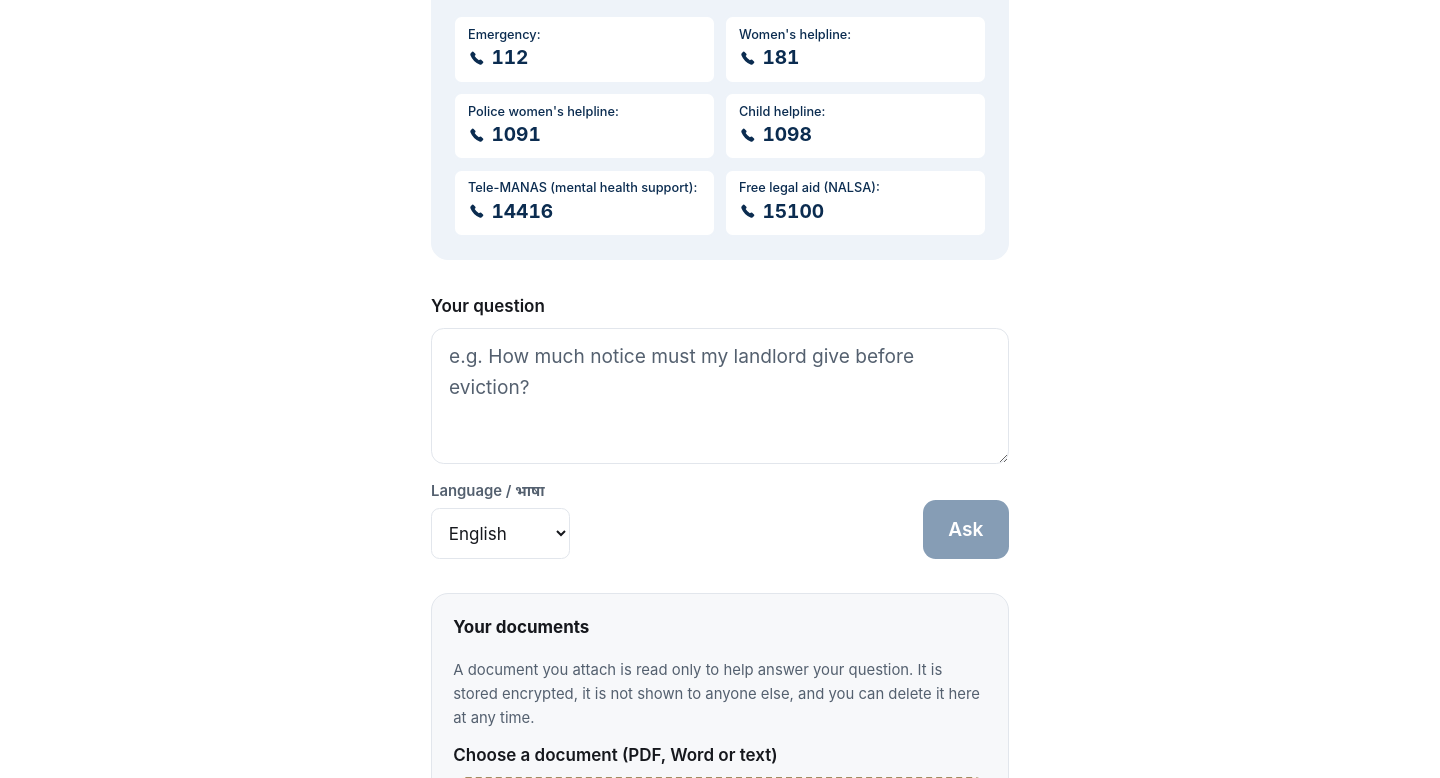
it: HomePage › welcomes a first-time visitor with example questions, and drops them once there is an answer
(page scrolled)
Type "q" into the text box labelled "Your question" at {"x": 720, "y": 396}, box [431,328,1009,464]
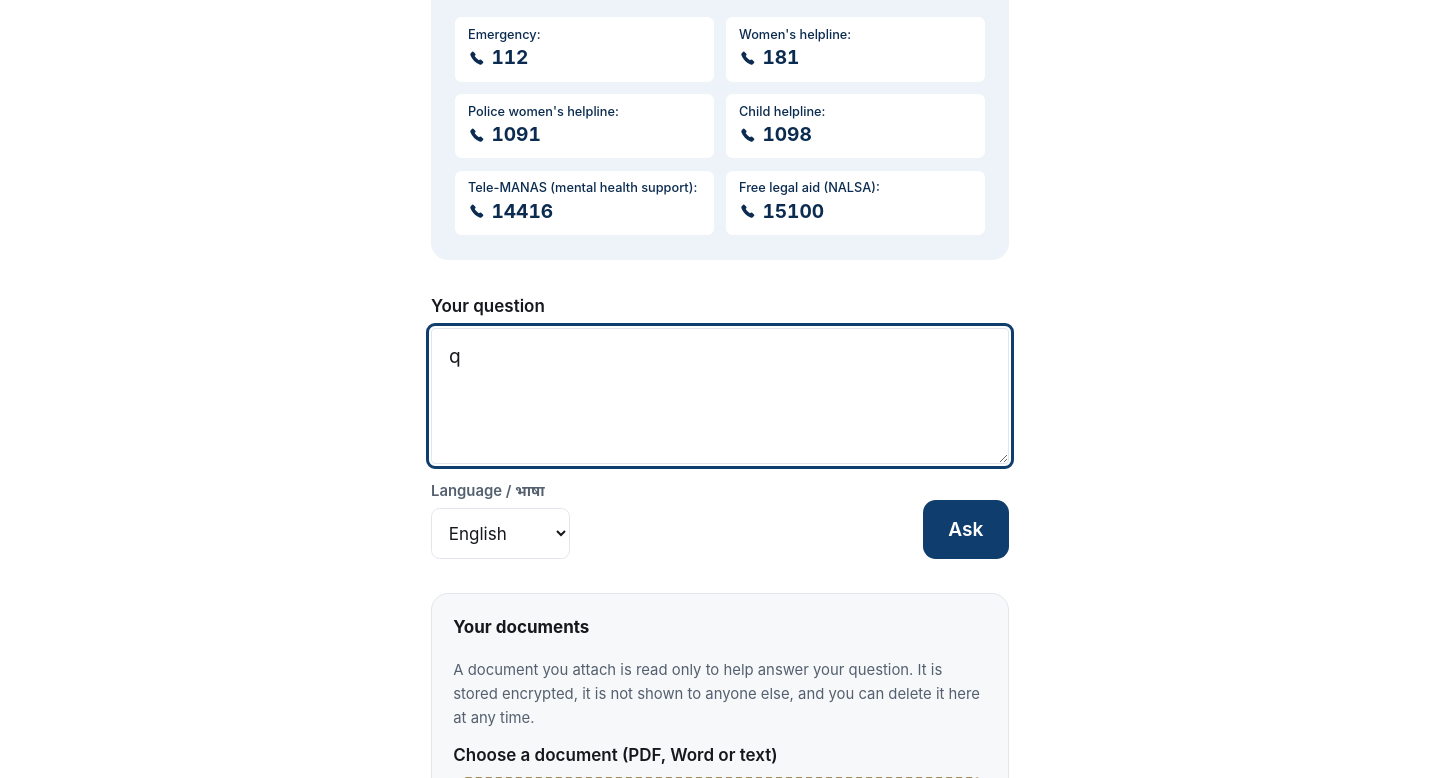
Click the button "Ask" at {"x": 966, "y": 529}, box [923,500,1009,559]
(page scrolled)
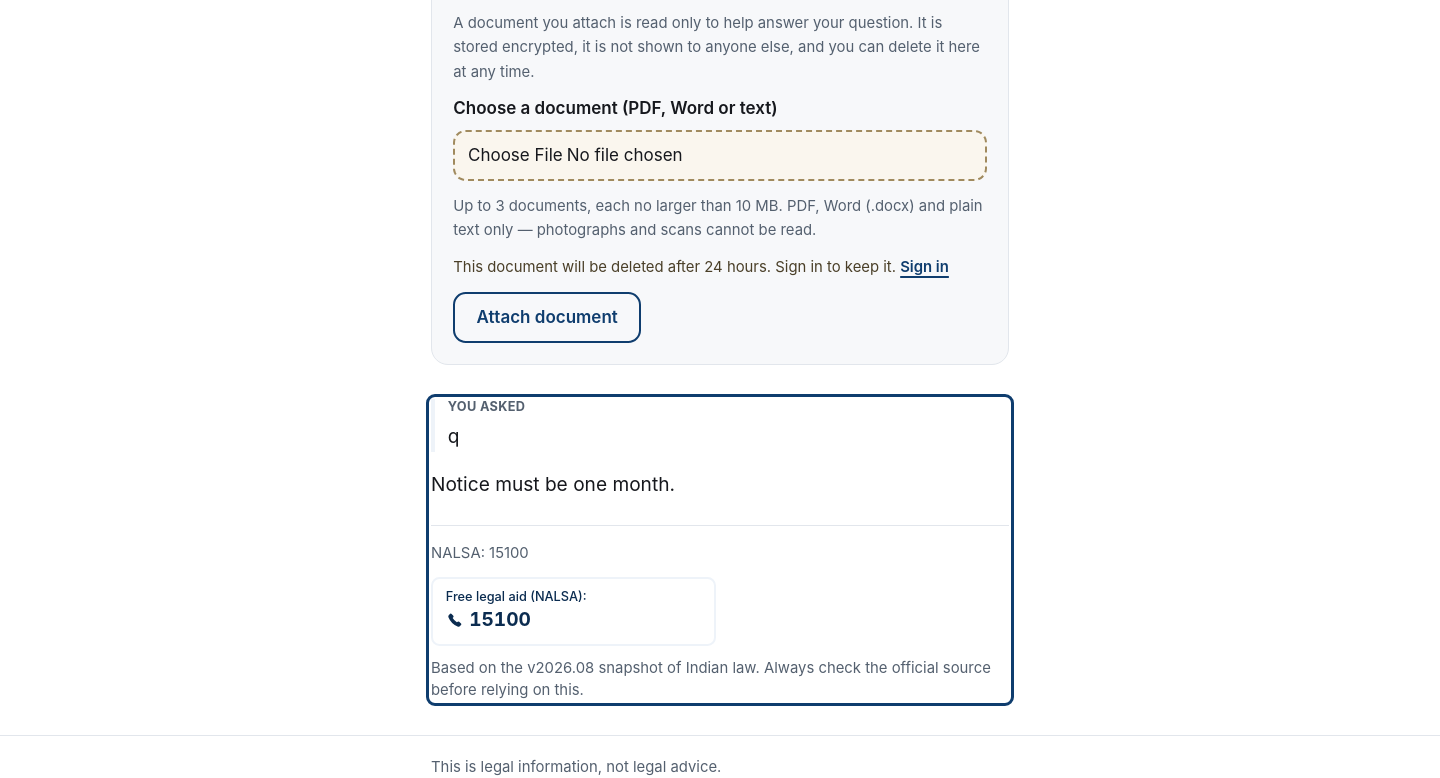
Now the text "Notice must be one month." is shown, box [431,472,675,496]
